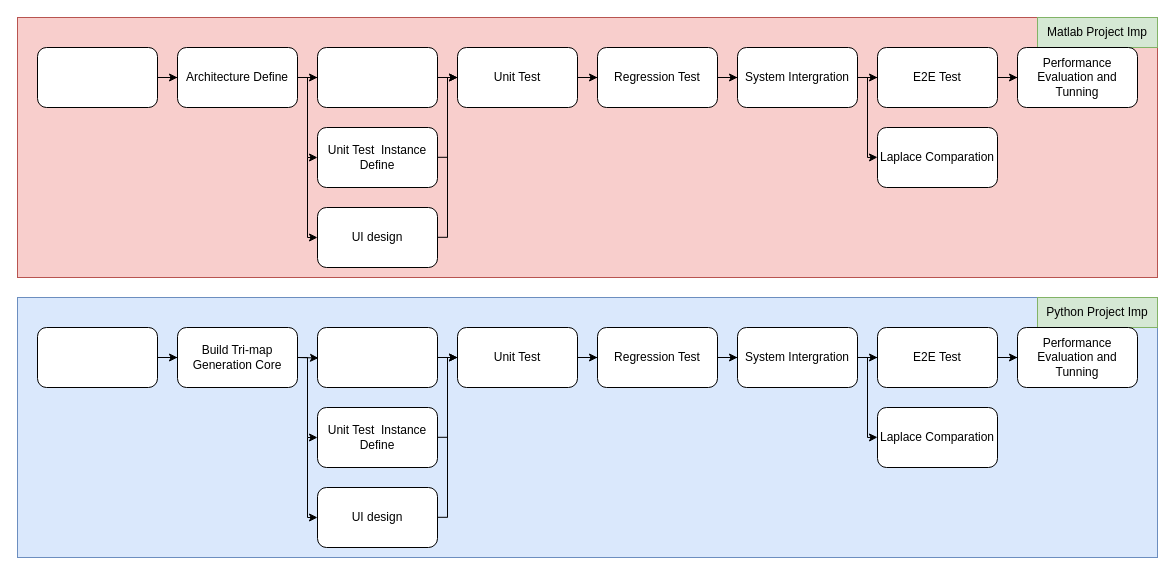
Image size: 1175x575. Some labels were removed from this diagram. Each missing label, with the centre of its shape:
Matlab Function Development: pixel 377 77
Porting code from matlab to python: pixel 97 357
Project Plan & Algorithm Research: pixel 97 77
Python Function Development: pixel 377 357
